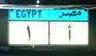1: (25, 25, 33, 42)
alif: (66, 24, 73, 42)
